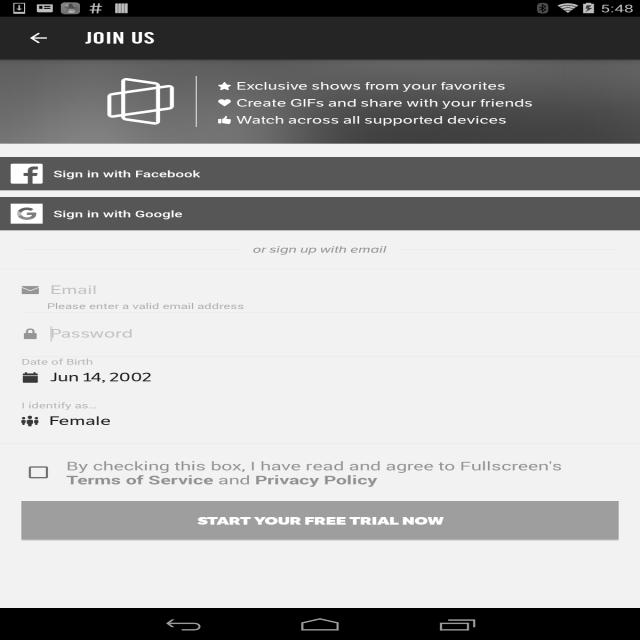CheckBox: (21, 457, 619, 488)
EditText: (21, 313, 640, 356), (21, 356, 640, 399), (21, 401, 640, 444), (21, 270, 640, 312)
ImageButton: (9, 17, 68, 59)
ImageView: (0, 59, 640, 144), (108, 78, 174, 125), (10, 164, 42, 184), (10, 204, 42, 224)
TextView: (21, 501, 619, 541), (43, 167, 629, 180), (218, 79, 533, 93), (218, 96, 533, 110), (218, 113, 533, 127), (43, 207, 182, 220), (252, 244, 386, 255), (85, 28, 155, 48)
